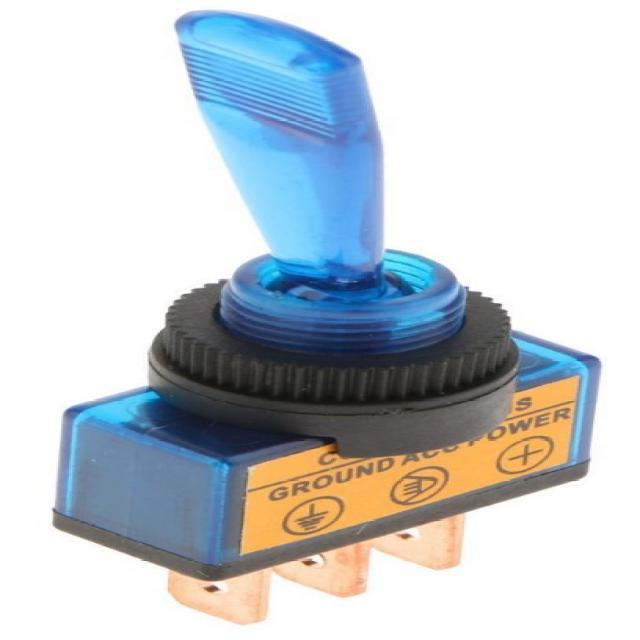toggle switch: (145, 5, 523, 415)
